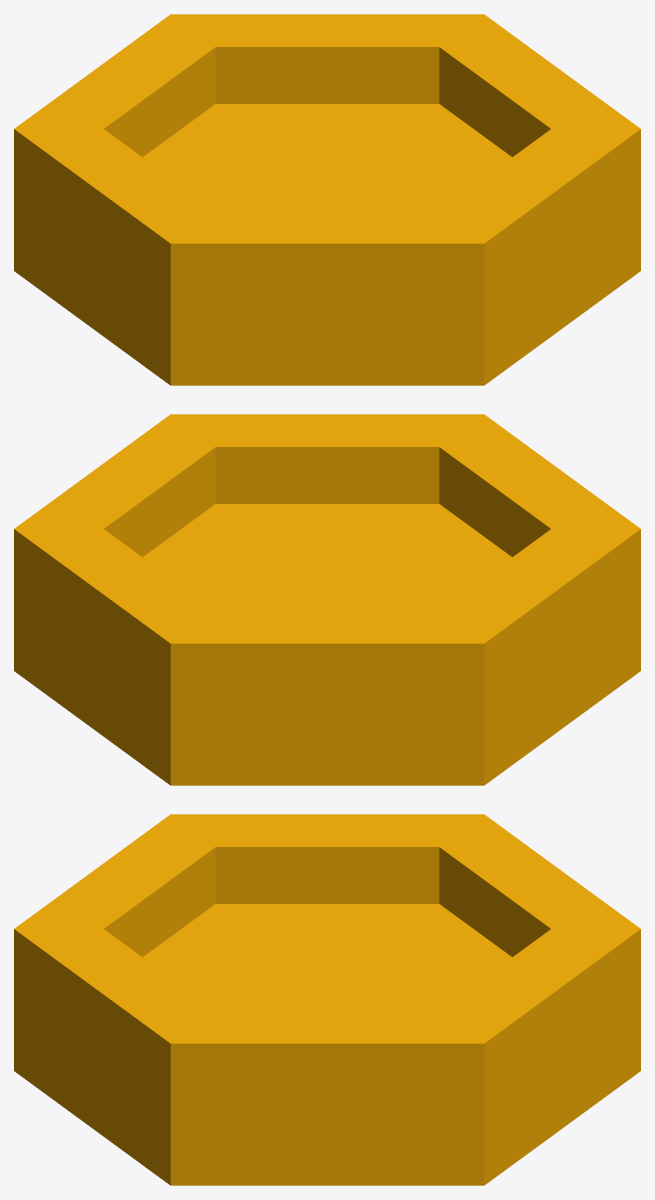
The model's file is coin.fbx.
3 renders of one model, top to bottom at view 1: azimuth 30°, elevation 25°; view 2: azimuth 150°, elevation 25°; view 3: azimuth 270°, elevation 25°, orthographic.
Parts seen in each view (by area): view 1: coinGold; view 2: coinGold; view 3: coinGold.
Boxes of the visible parts, x1,y1,x2,y2 form: coinGold: (14, 14, 640, 385); coinGold: (14, 414, 640, 785); coinGold: (14, 814, 640, 1185).
Size of the model in its own units: 0.8988 by 0.2595 by 1.04.
